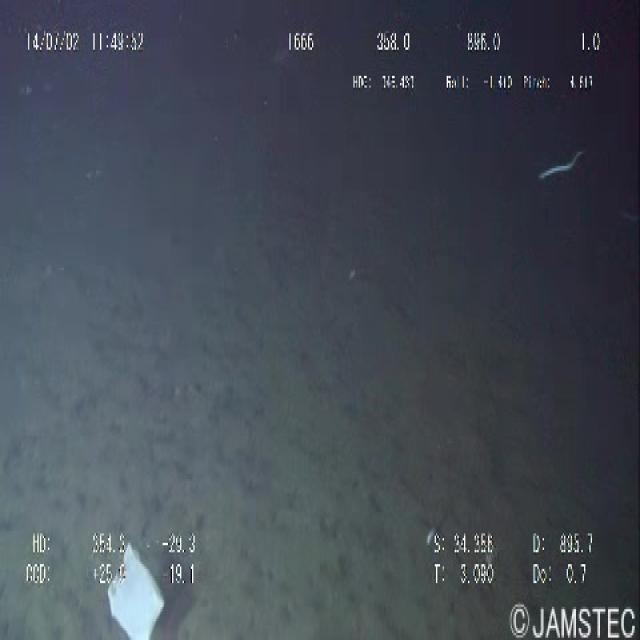plastic: (85, 538, 168, 638)
